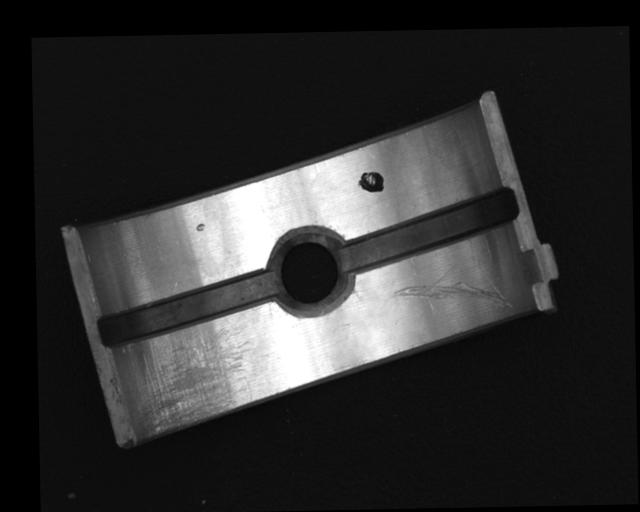blot: (357, 170, 385, 193)
bruise: (194, 223, 207, 231)
gap: (338, 184, 520, 274), (94, 270, 277, 347)
hole: (266, 230, 353, 317)
nick: (388, 260, 514, 310)
scratch: (137, 324, 254, 434)
